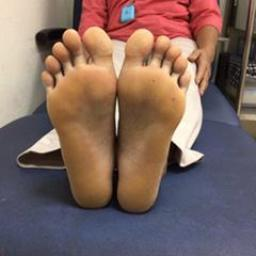Plantar View -Both Feet-: (38, 22, 196, 214)
